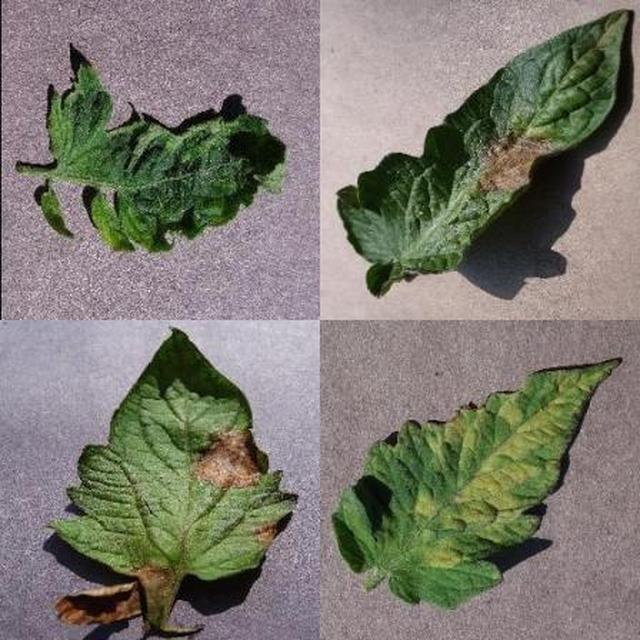Mosaic Virus Leaf: (238, 221, 640, 640)
